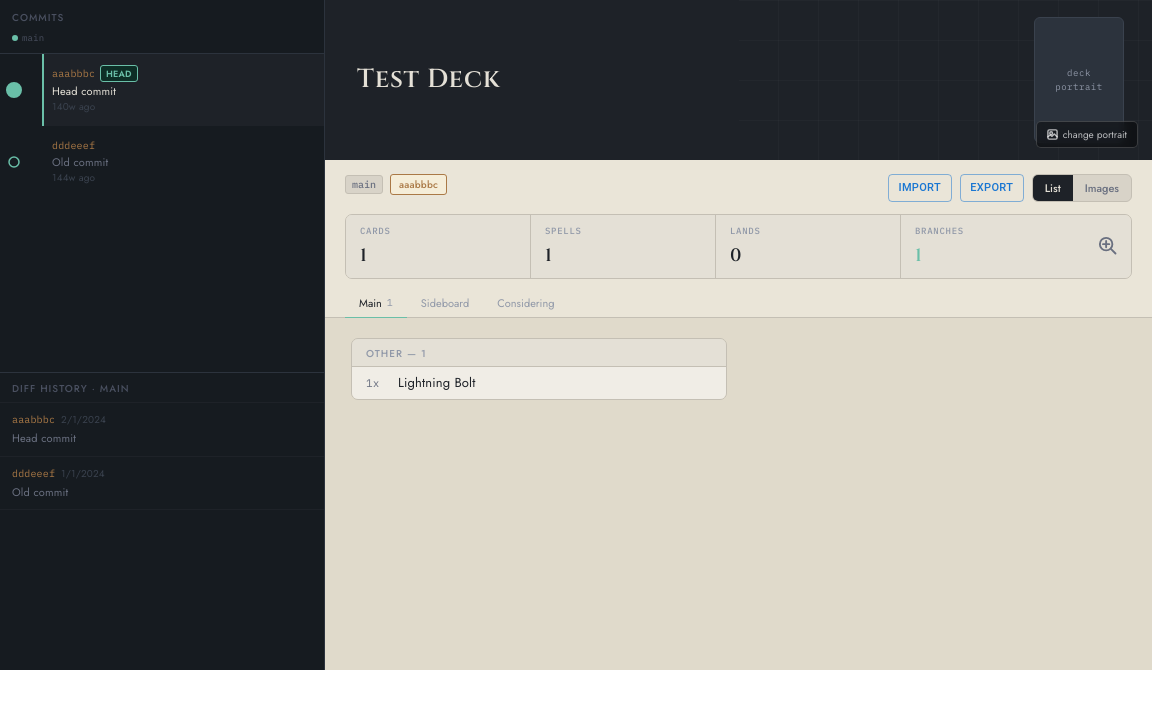
Scenario: Decklist — commit history navigation › clicking a non-HEAD commit row enters history mode and shows the history banner
Step 1. Click the text "Old commit" below "140w ago" → (80, 162), box [52,154,108,170]
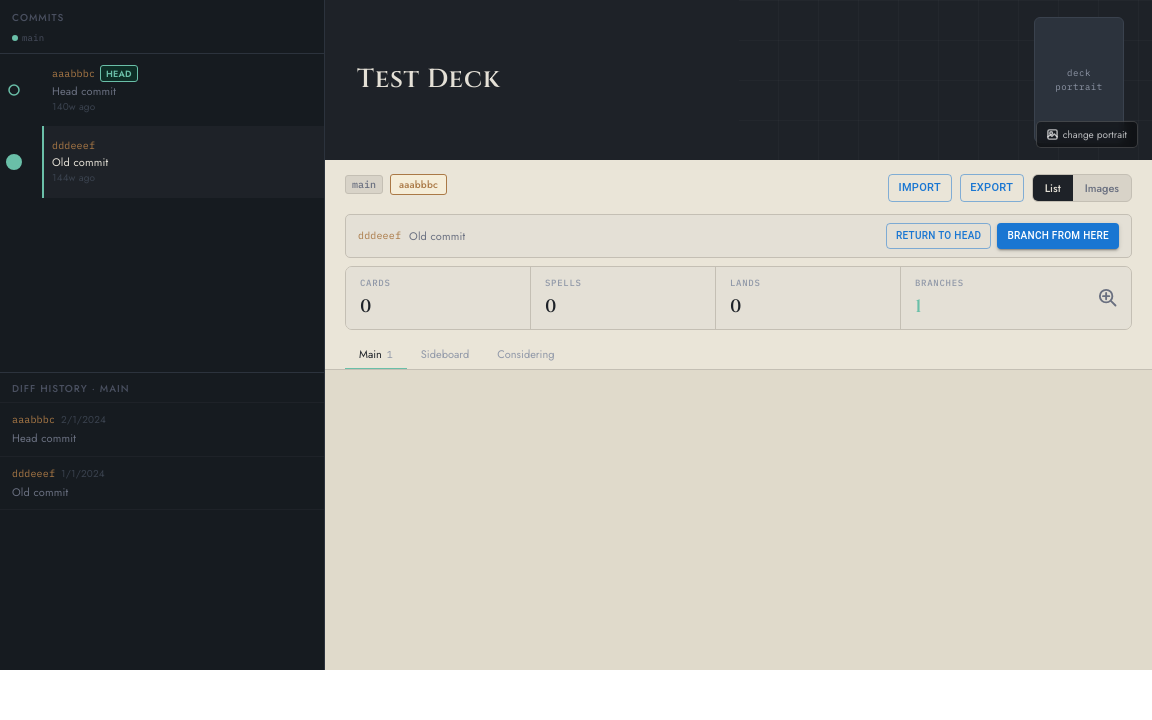
Now the button "Return to HEAD" is shown, box [886,223,991,248]
